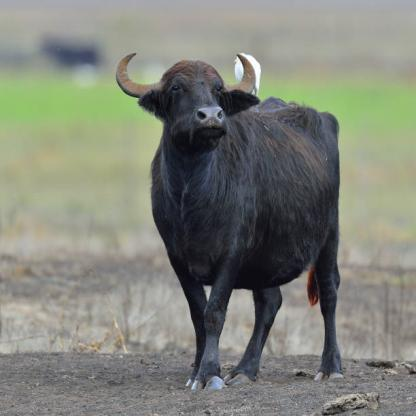buffalo: (83, 50, 360, 394)
